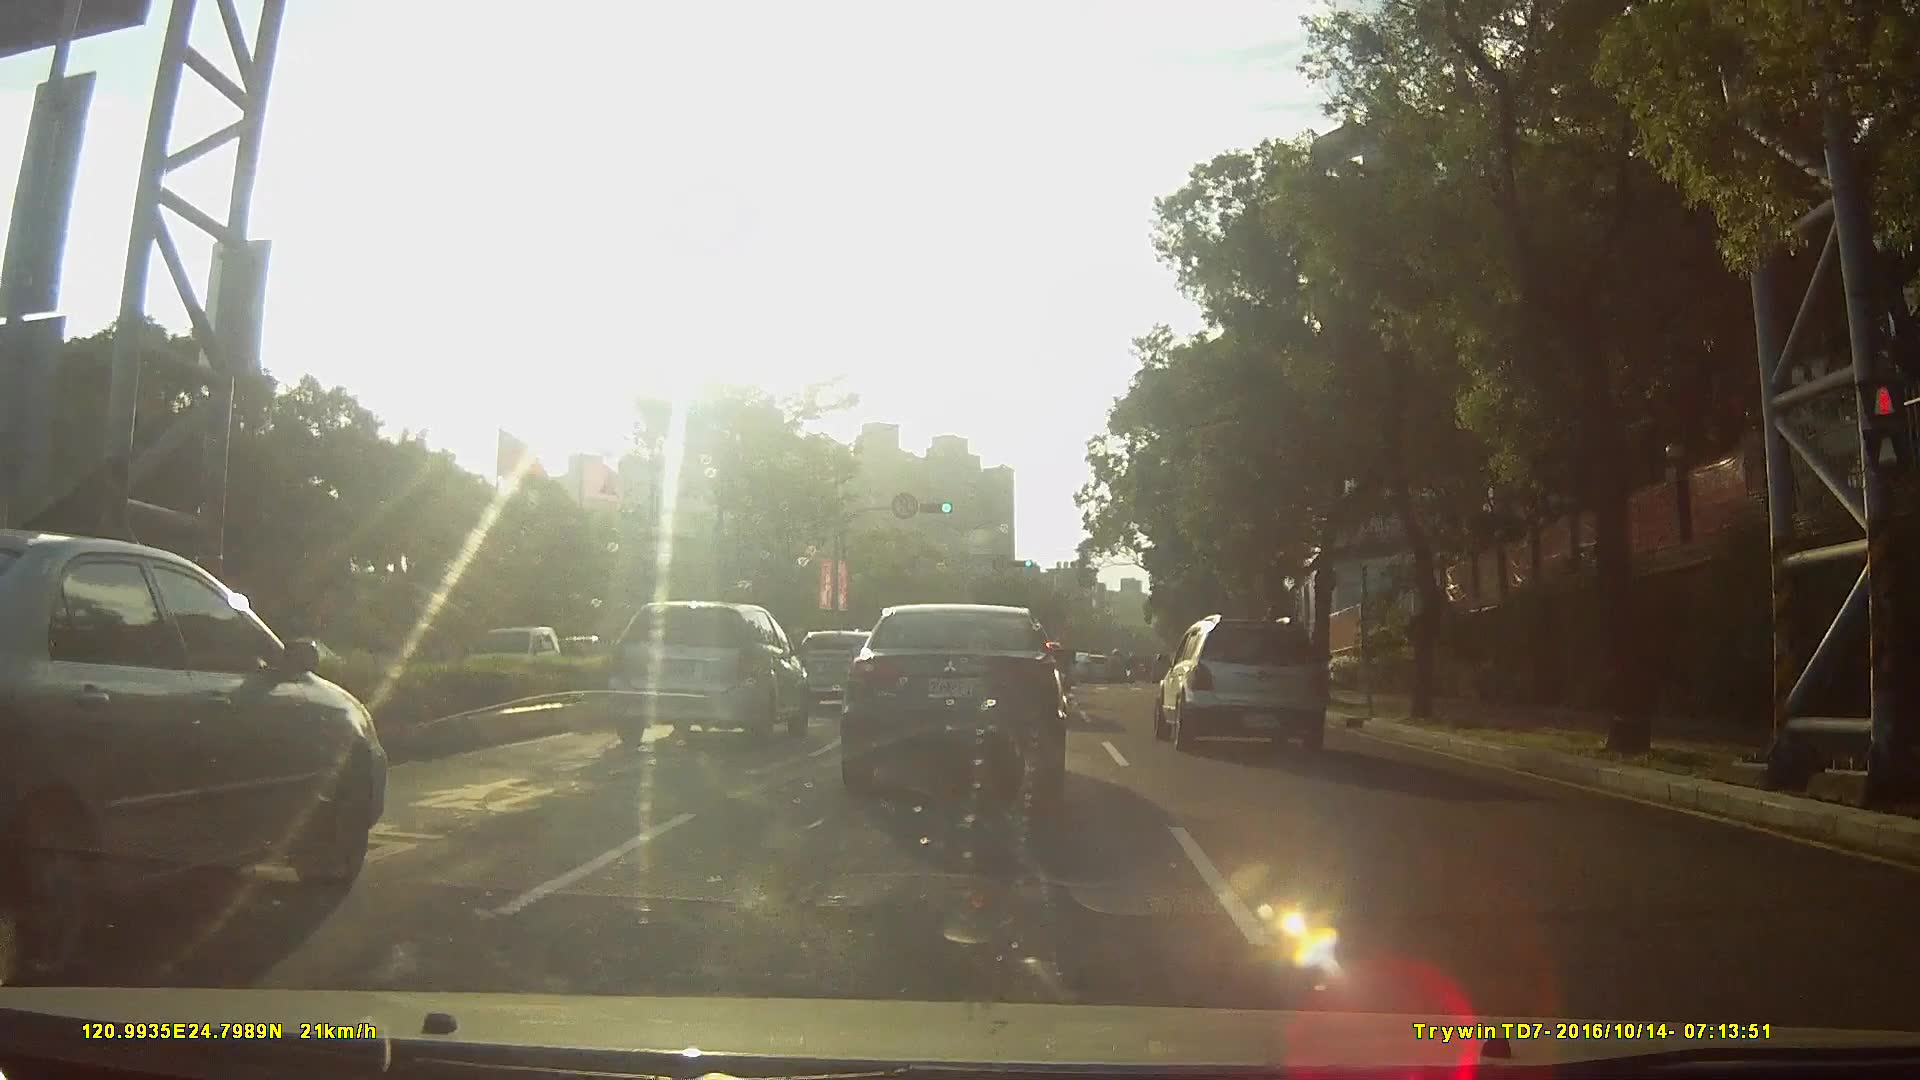vehicle: (1, 521, 400, 993), (840, 600, 1067, 804), (604, 603, 810, 748), (1149, 615, 1338, 753), (455, 624, 564, 694), (1079, 654, 1113, 684)
